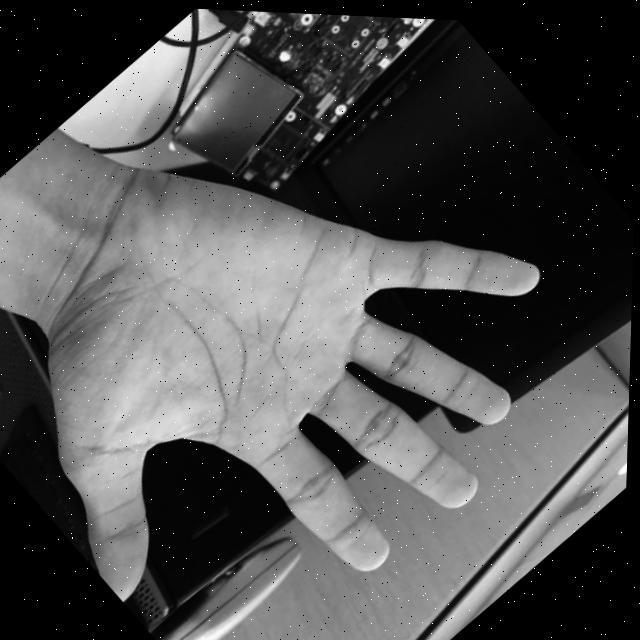no-gloves: (0, 7, 636, 640)
